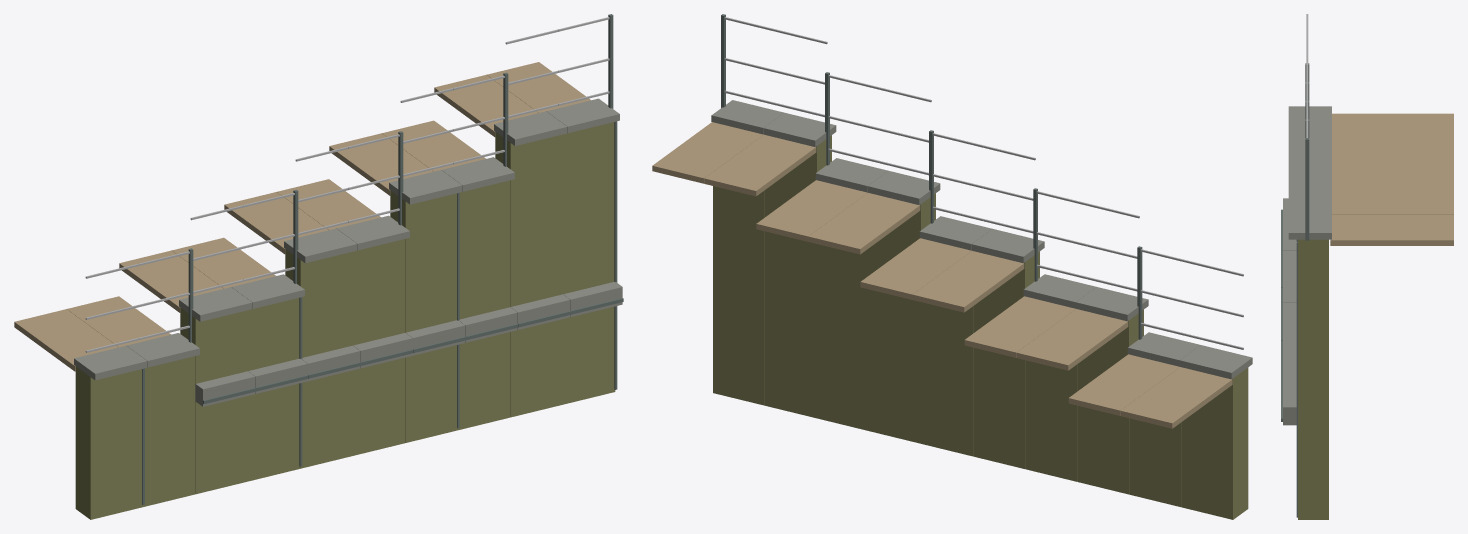
Rendered from SM_MuroRampa_v4_Escalonado_e0_Sano_LOD0.fbx.
The picture shows the model from 3 angles, left to right: view 1: azimuth 30°, elevation 25°; view 2: azimuth 150°, elevation 25°; view 3: azimuth 270°, elevation 25°; orthographic projection. The views are drawn at different scales.
Visible parts, largest first — view 1: SM_muro_rampa_v16_LOD0; view 2: SM_muro_rampa_v16_LOD0; view 3: SM_muro_rampa_v16_LOD0.
Part boxes in pixels (<box>): SM_muro_rampa_v16_LOD0: <box>14,14,623,519</box>; SM_muro_rampa_v16_LOD0: <box>652,14,1252,519</box>; SM_muro_rampa_v16_LOD0: <box>1281,14,1453,519</box>.
Size of the model in its own units: 10.03 by 6.8 by 2.8.
